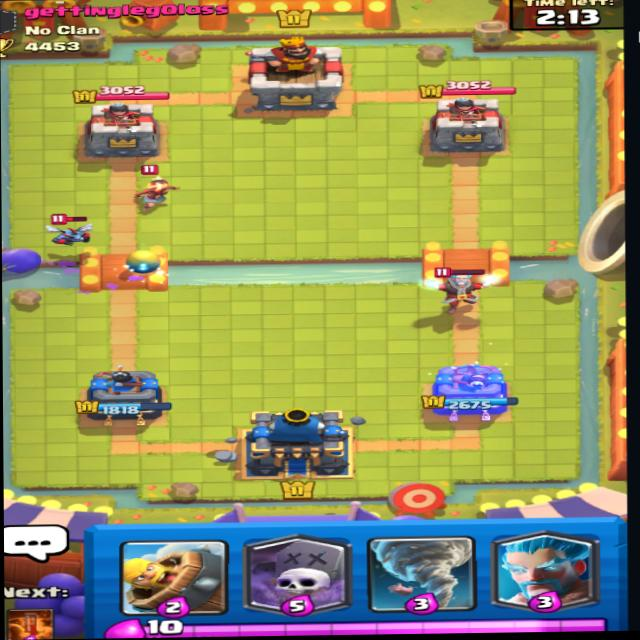ice-wizard: (414, 264, 498, 313)
minion: (35, 211, 98, 251)
princess: (134, 164, 185, 209)
